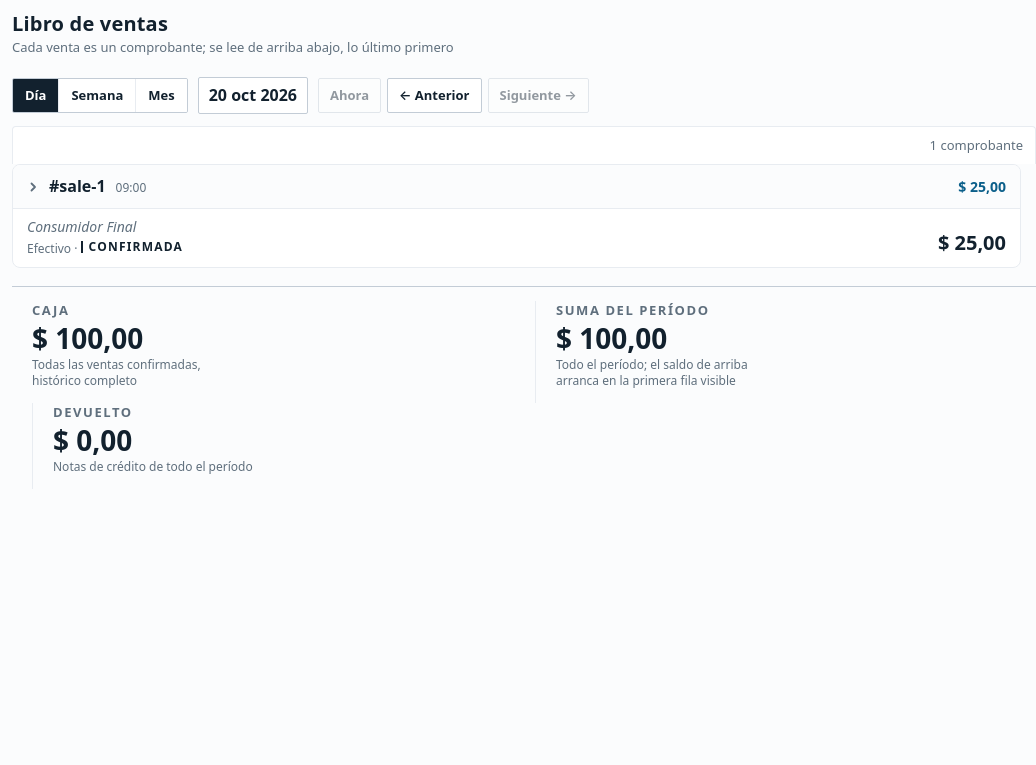
Test: a refund whose cash read fails › retires the notice when the cash figure comes back too
Step 1. Click the button that starts with "#sale-1" → (516, 187), box x1=12 y1=164 x2=1021 y2=268
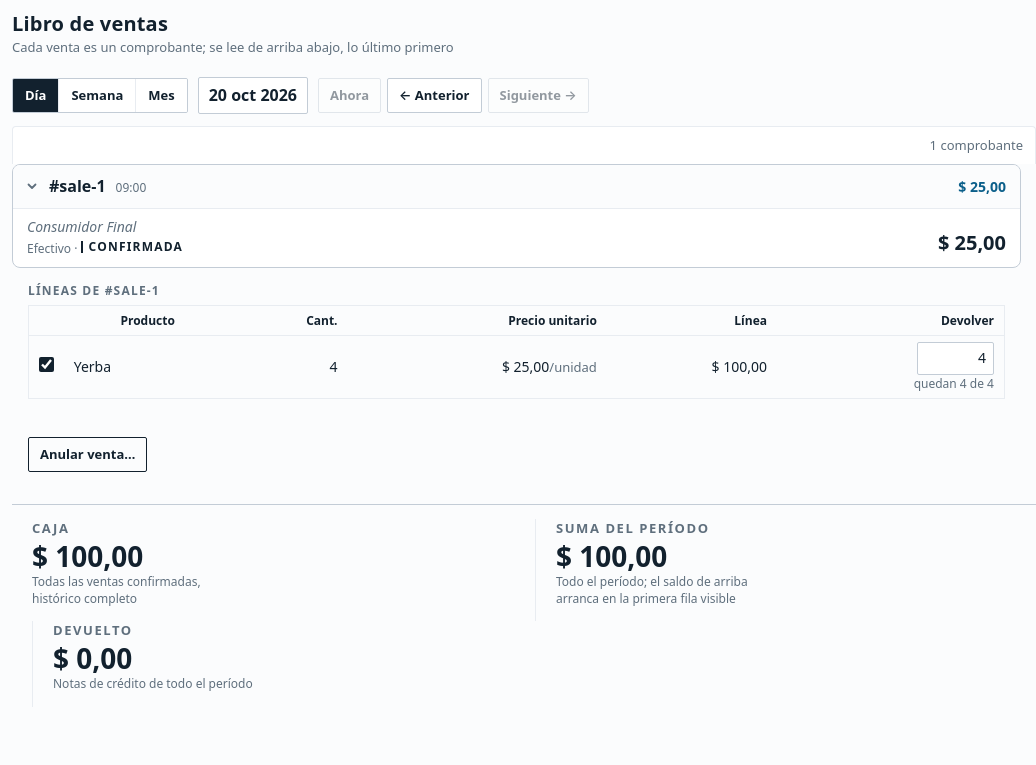
Now the button "Anular venta…" is shown
Step 2. Click the button "Anular venta…" → (88, 454), box x1=28 y1=437 x2=147 y2=472
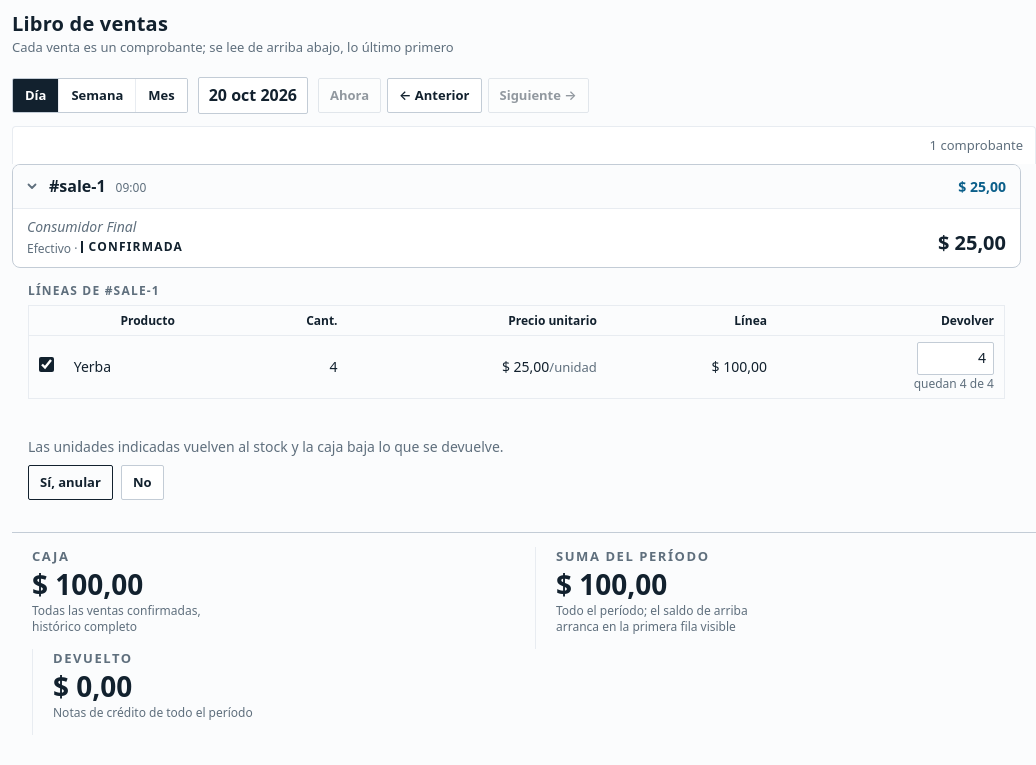
Now the button "Sí, anular" is shown
Step 3. Click the button "Sí, anular" → (70, 483), box x1=28 y1=465 x2=113 y2=500
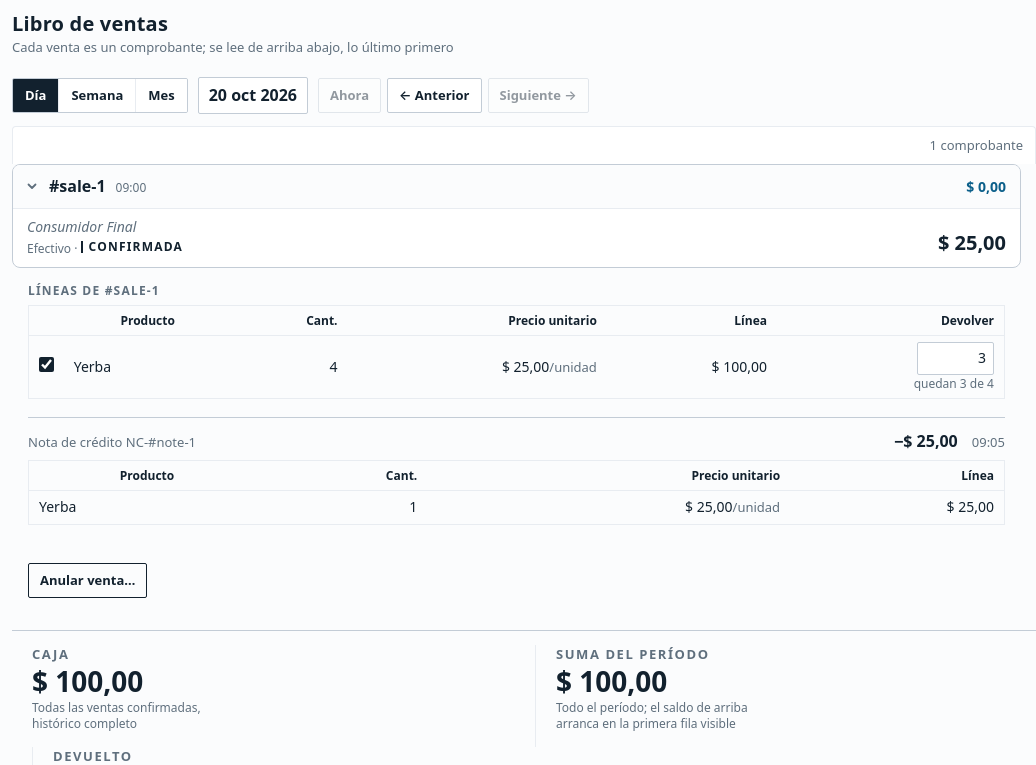
Now the element with class "note-block" is shown, box x1=28 y1=417 x2=1005 y2=525
